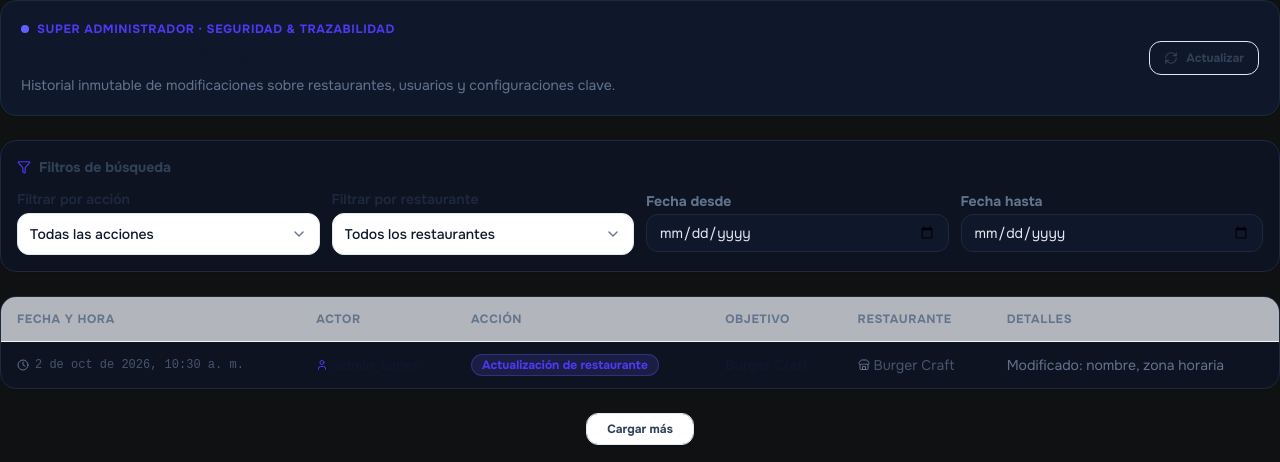
Scenario: AuditLogScreen (TDD) › guards against stale 'Cargar más' pagination responses when filter changes
# Click Cargar más (starts in-flight pagination request)
Click the button "Cargar más" at (640, 429), box [586,413,694,445]
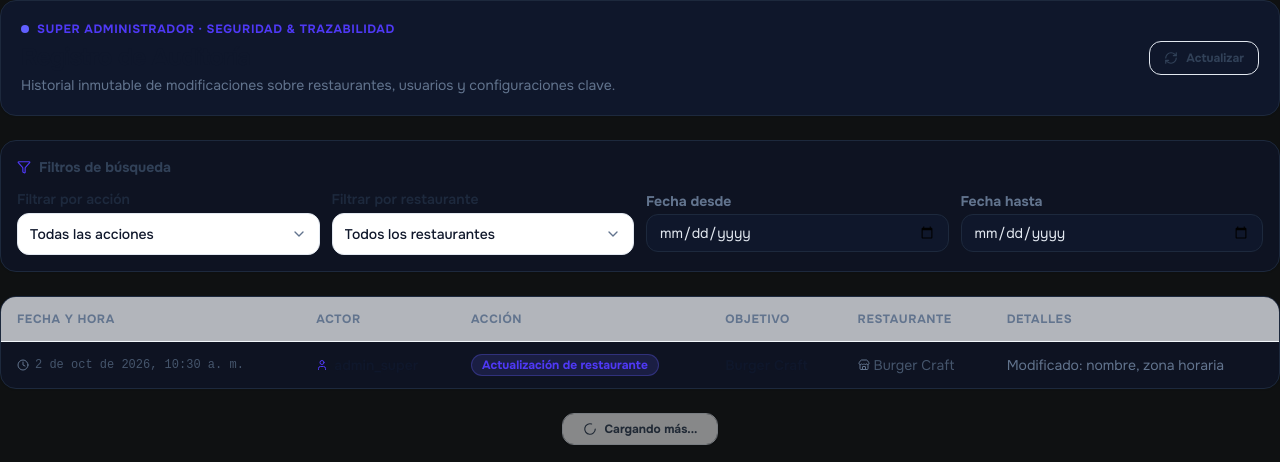
# User changes filter while pagination is in flight
Select "Creación de usuario" in the dropdown labelled "Filtrar por acción" at (74, 199), box [17,190,130,208]
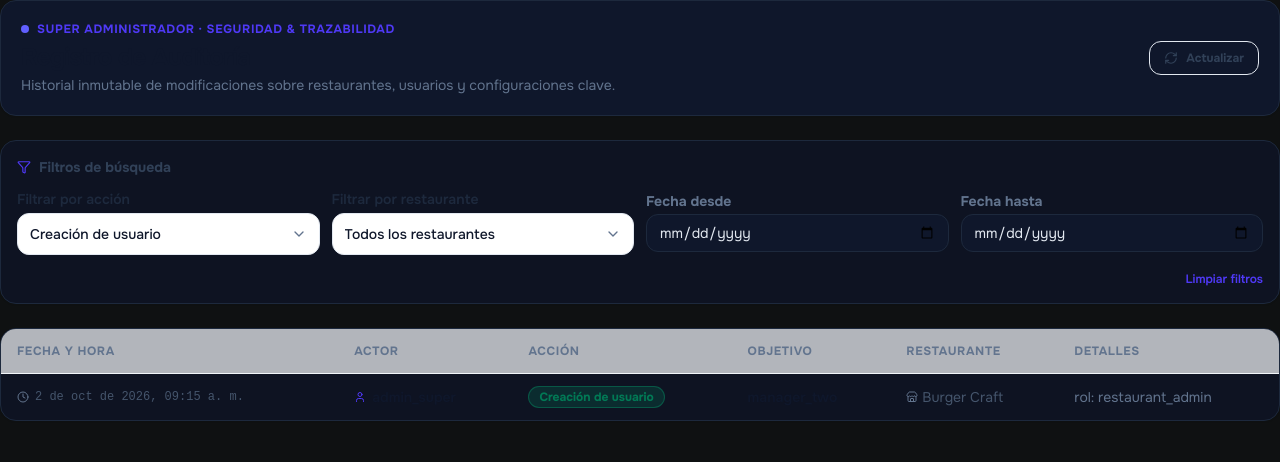
Expected: the text "Creación de usuario" in the row of "2 de oct de 2026, 09:15 a. m." is shown, [540,389,654,405]
